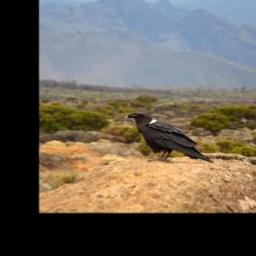Crow: (124, 111, 217, 165)
